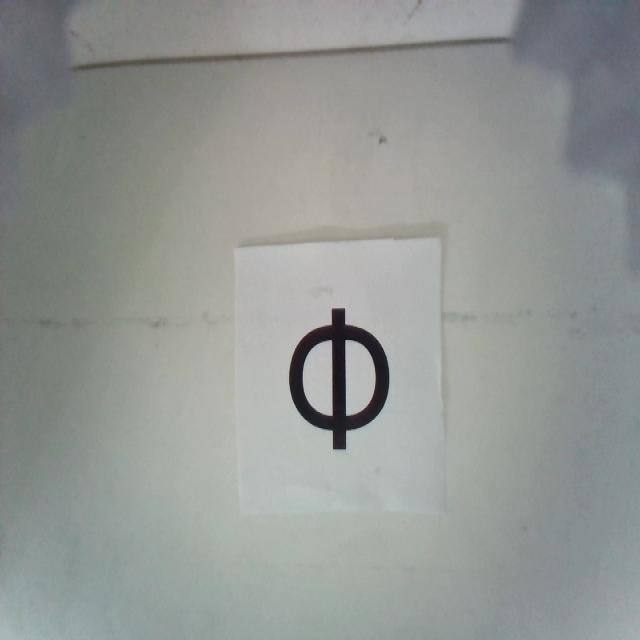F: (288, 308, 390, 445)
